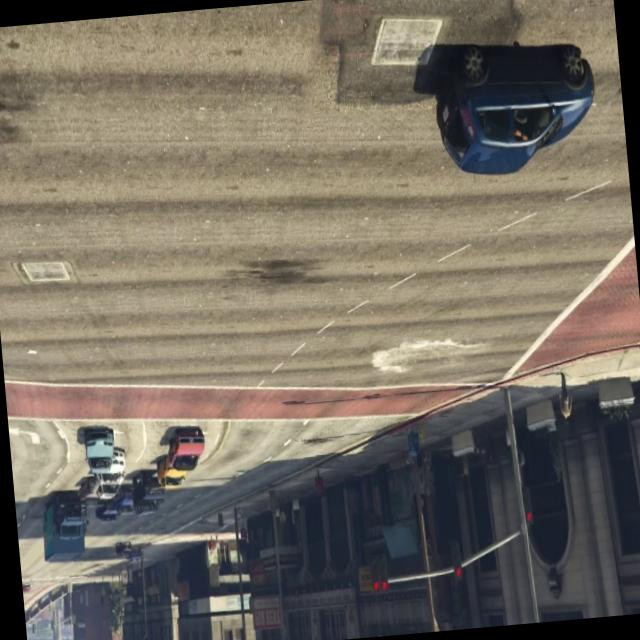Red-Signal: (364, 544, 392, 606), (446, 530, 469, 588), (518, 478, 540, 536)
